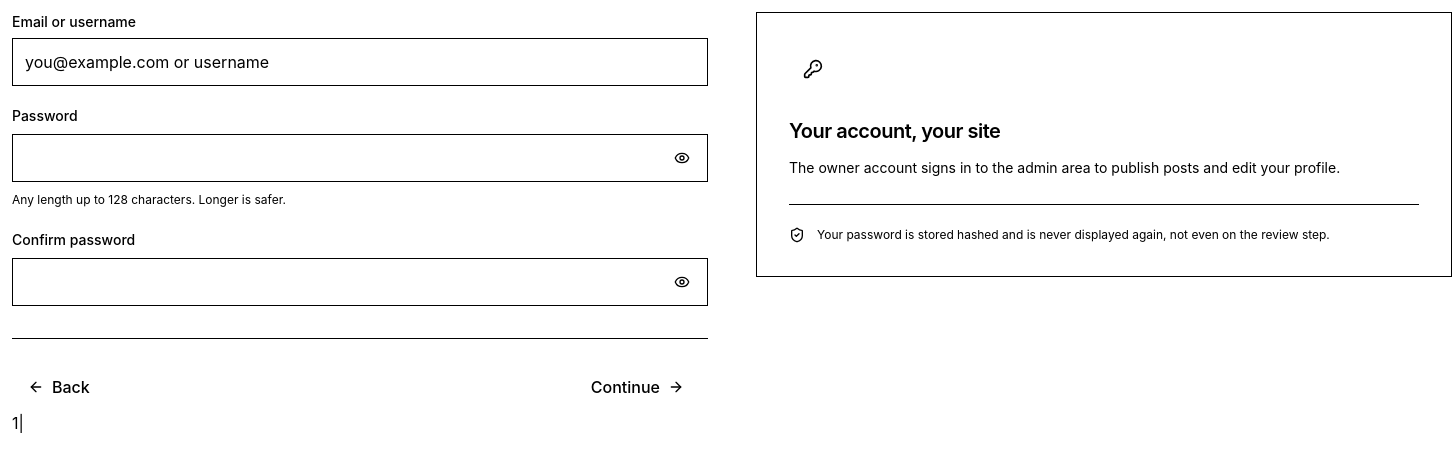
Test: OwnerStep › Given valid owner input, should store it and go to the review step
In the field labelled "Email or username": (360, 62) [12,38,708,86], type "Owner@Example.test"
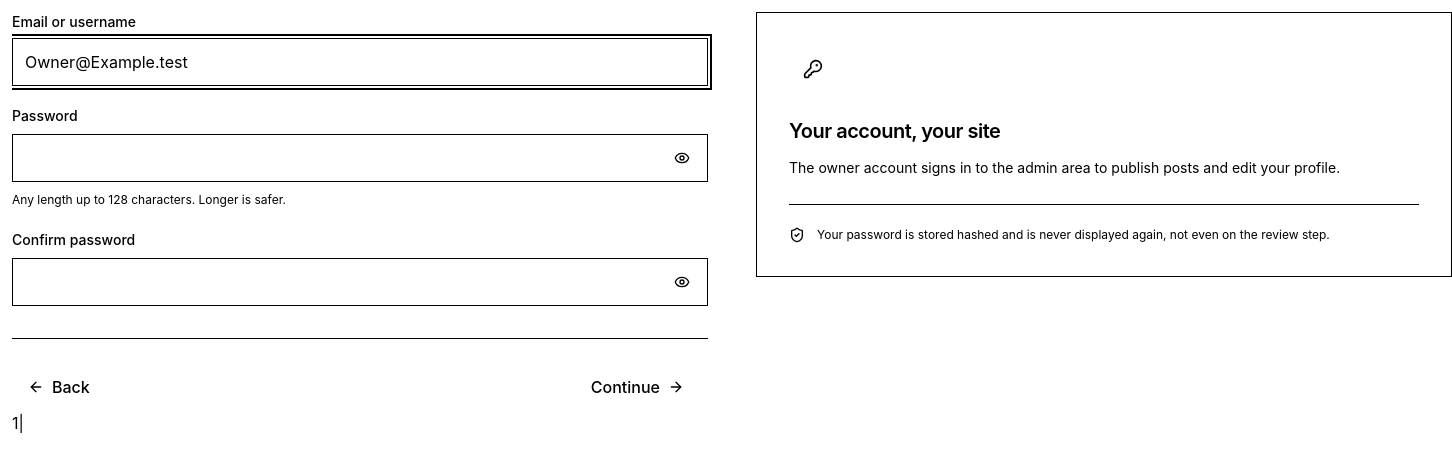
In the password field labelled "Password": (360, 158) [12,134,708,182], type "::password::-12345"
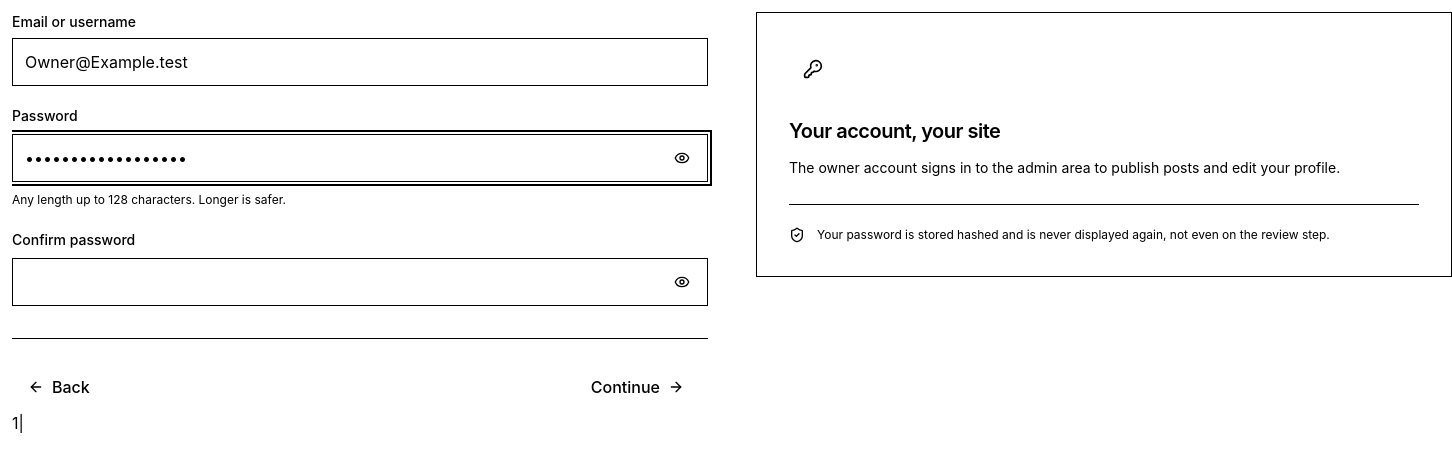
In the password field labelled "Confirm password": (360, 282) [12,258,708,306], type "::password::-12345"
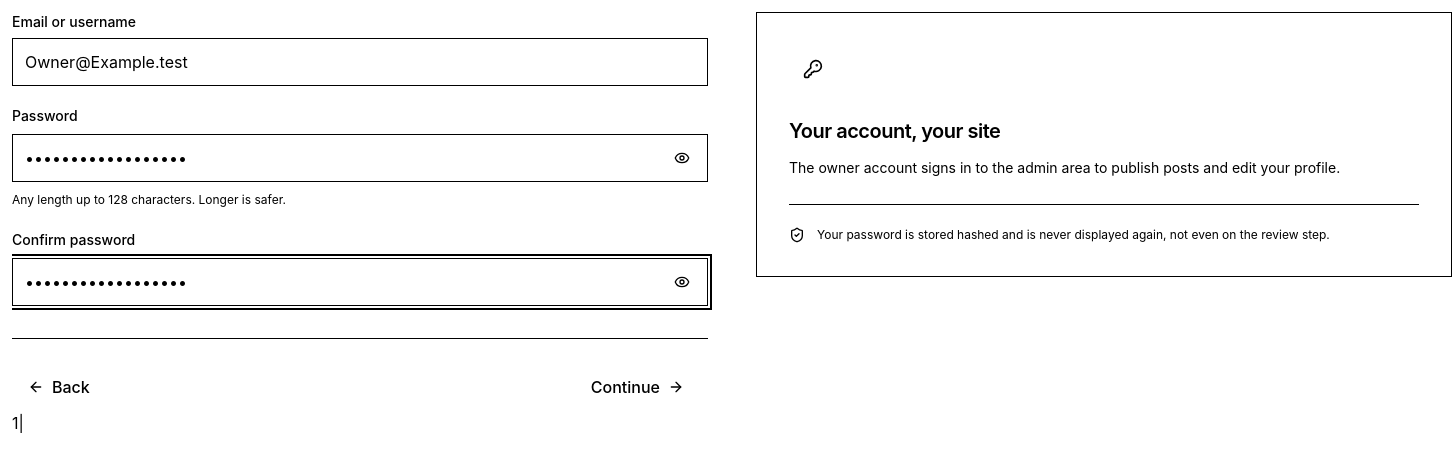
Click the button "Continue": (637, 386) [567,362,708,410]
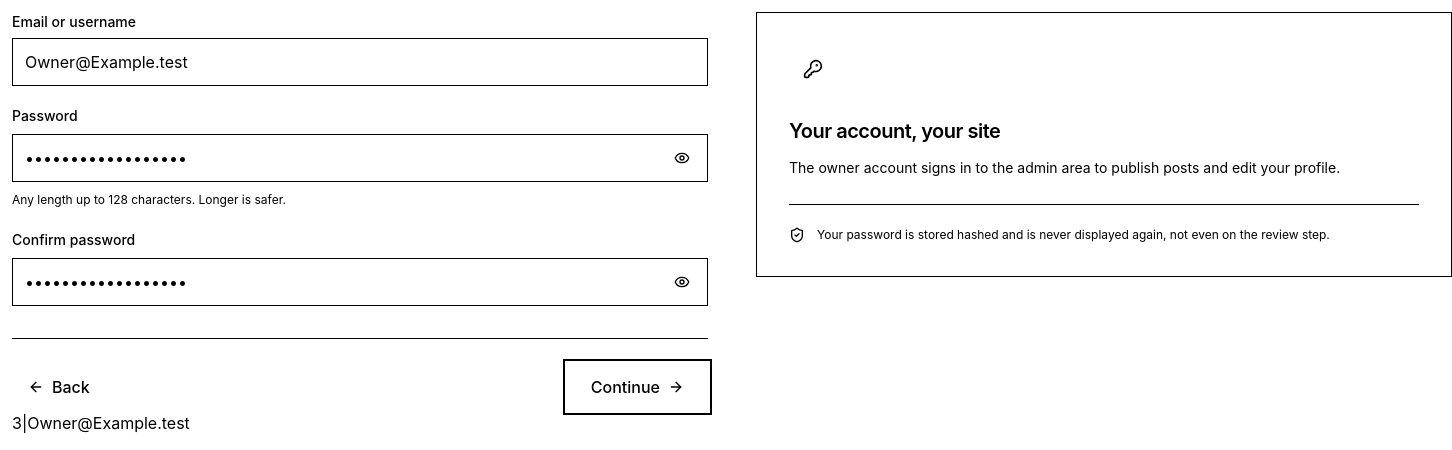
Result: the text with test id "probe" reads "3|Owner@Example.test" at [12,412,22,432]
